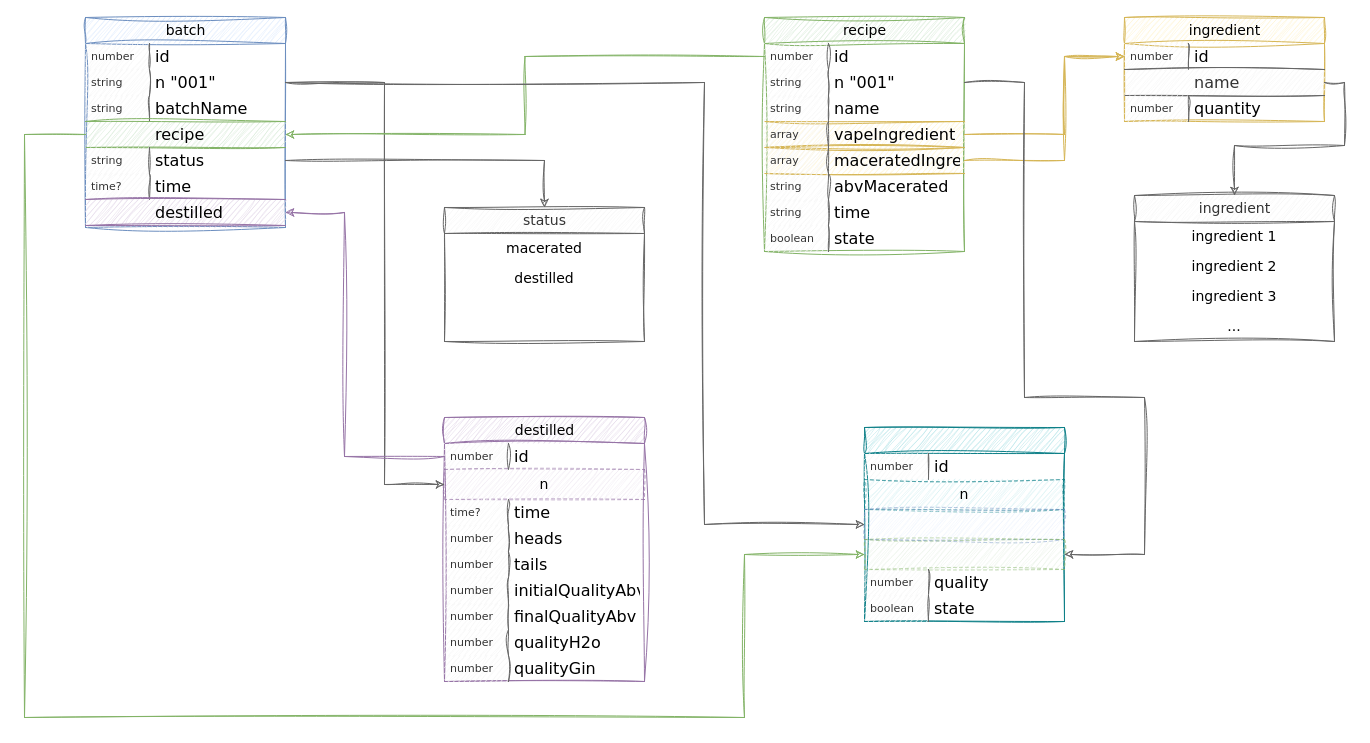
Image size: 1370x743. Some labels were removed from this diagram. The shapes that lost their labels are listed below. From the top down, each one's box as (x1, y1, x2, y2) in pixels, then its label:
(864, 426, 1064, 622): bottles
(864, 508, 1064, 540): n (batch)
(864, 538, 1064, 570): n (recipe)
